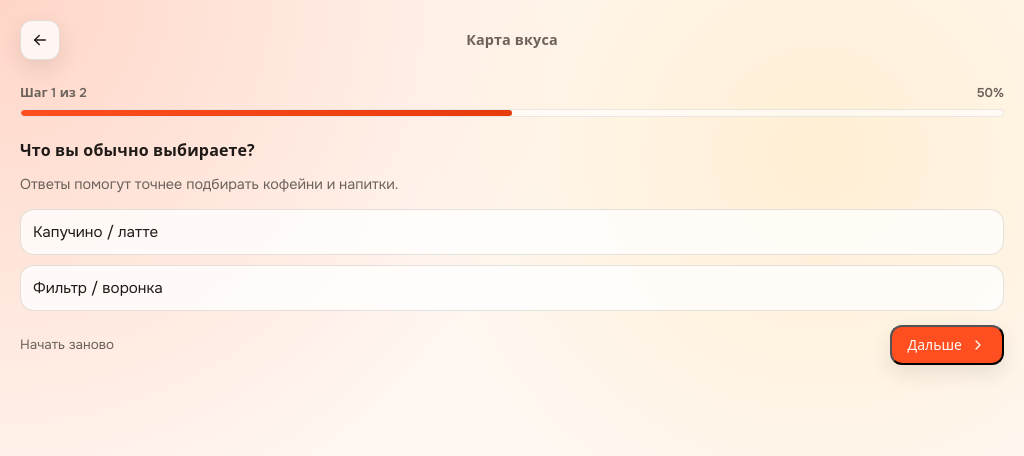
TasteOnboardingPage › validates required step and moves to next after answer
Check: the heading "Что вы обычно выбираете?" is shown, box [20, 139, 255, 161]
Click the button "Дальше" at (947, 344), box [890, 324, 1004, 364]
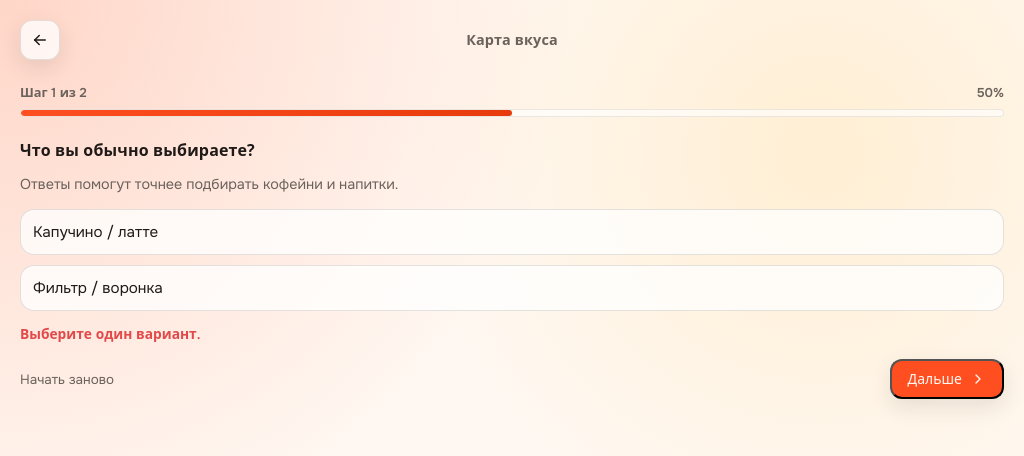
Check: the text "Выберите один вариант." is shown, box [20, 326, 200, 342]
Click the button "Фильтр / воронка" at (98, 288), box [20, 264, 1004, 310]
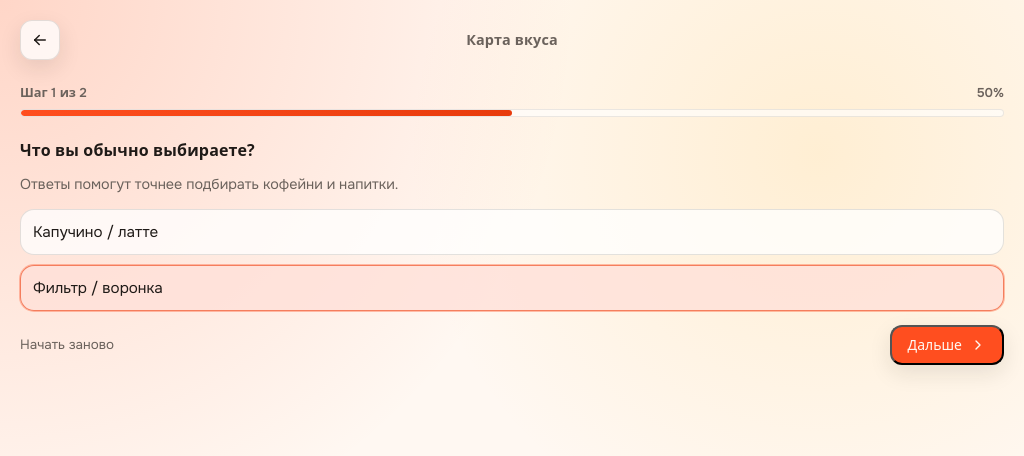
Click the button "Дальше" at (947, 344), box [890, 324, 1004, 364]
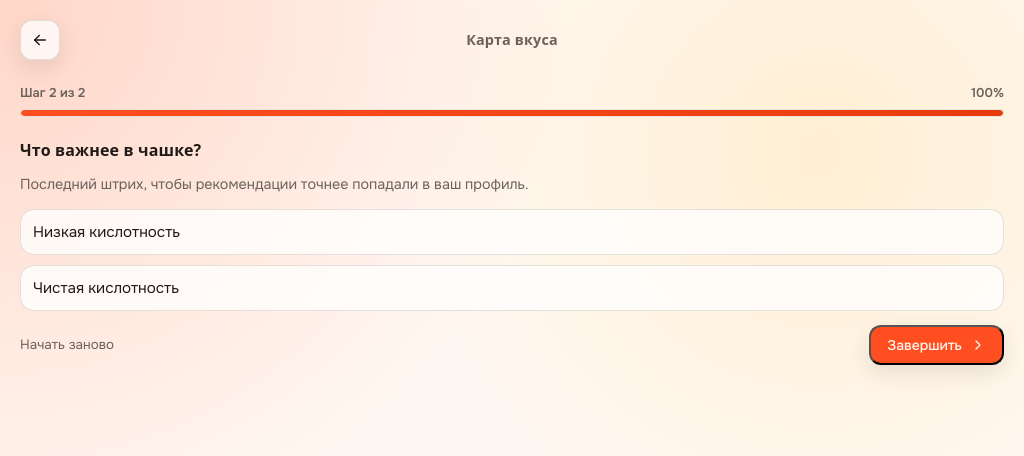
Check: the heading "Что важнее в чашке?" is shown, box [20, 139, 201, 161]
